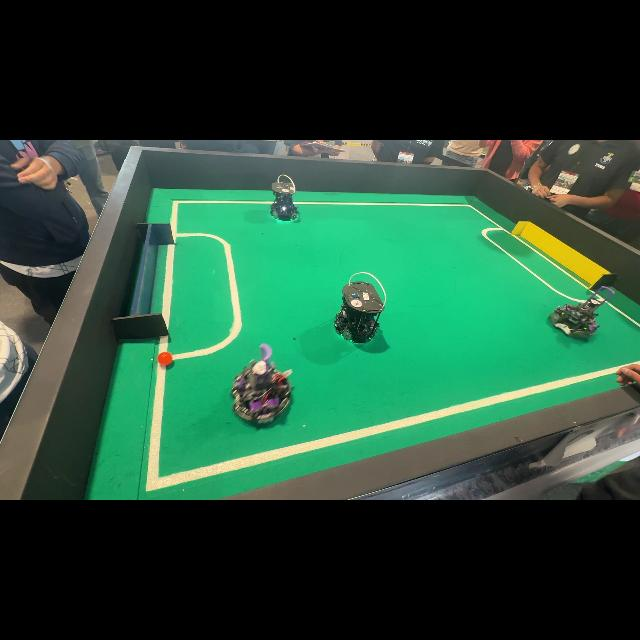ball: (158, 352, 172, 366)
goal: (112, 223, 174, 339), (511, 222, 617, 289)
robot: (231, 344, 292, 423), (334, 272, 386, 343), (550, 286, 614, 338), (270, 175, 298, 220)
